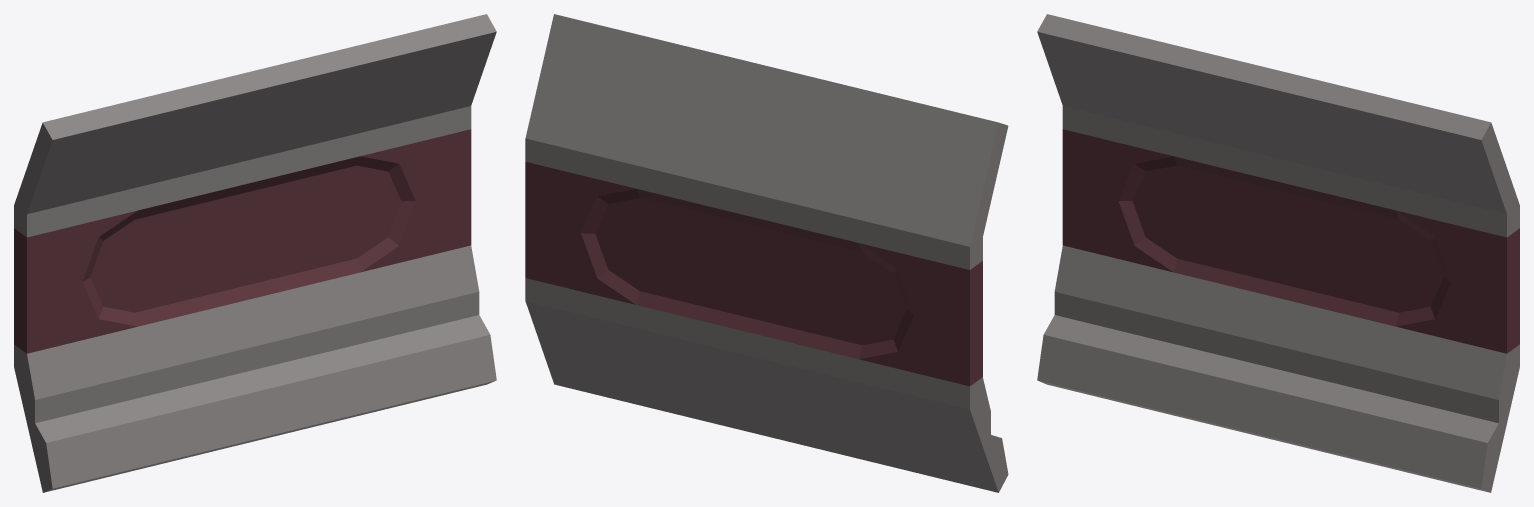
Rendered from scifi-scifi-window-corridor-stripe.glb.
The picture shows the model from 3 angles, left to right: view 1: azimuth 30°, elevation 25°; view 2: azimuth 150°, elevation 25°; view 3: azimuth 330°, elevation 25°; orthographic projection.
Visible parts, largest first — view 1: scifi-window-corridor-stripe; view 2: scifi-window-corridor-stripe; view 3: scifi-window-corridor-stripe.
Part boxes in pixels (<box>): scifi-window-corridor-stripe: <box>14,14,496,492</box>; scifi-window-corridor-stripe: <box>525,14,1008,492</box>; scifi-window-corridor-stripe: <box>1037,14,1519,492</box>.
Size of the model in its own units: 4 by 3.19 by 0.6.
